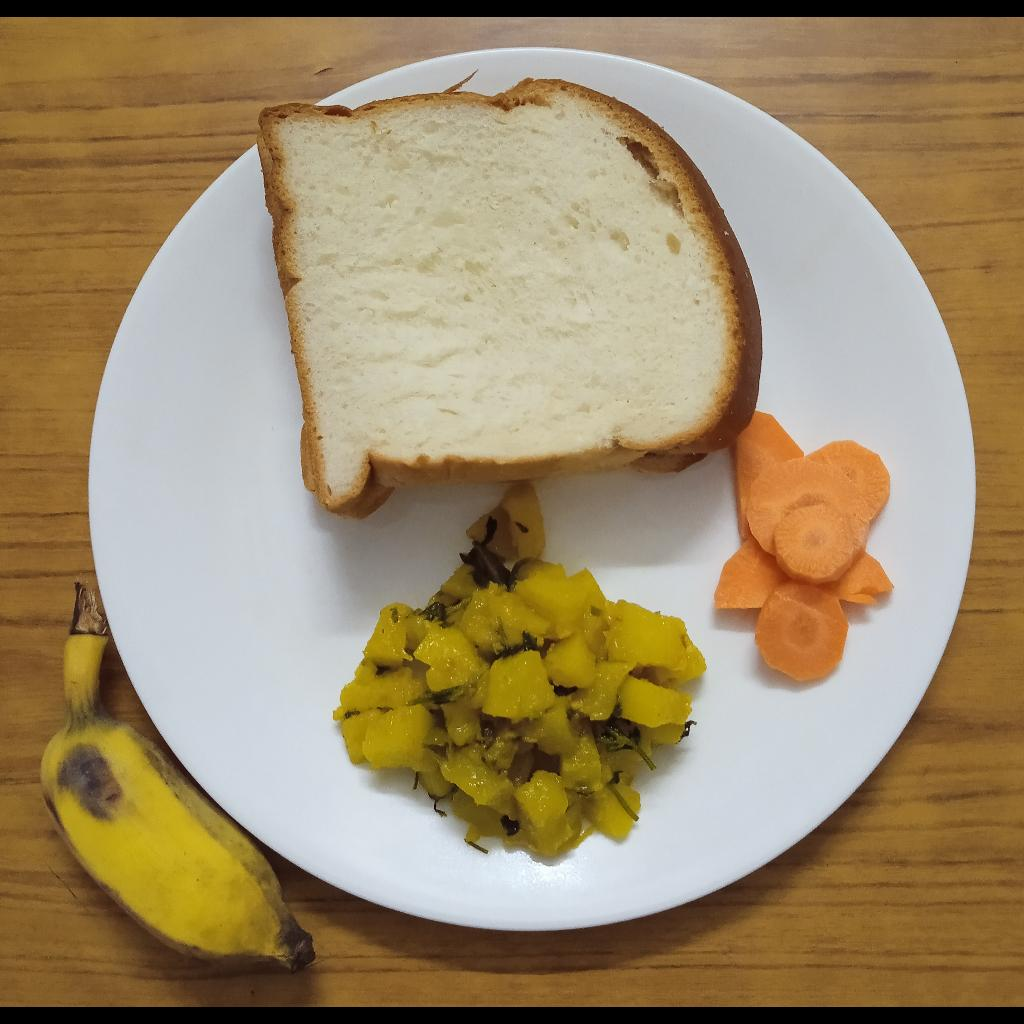banana: (40, 576, 317, 971)
bread: (257, 79, 763, 522)
carrot: (714, 411, 897, 683)
vegetable: (332, 489, 703, 855)
